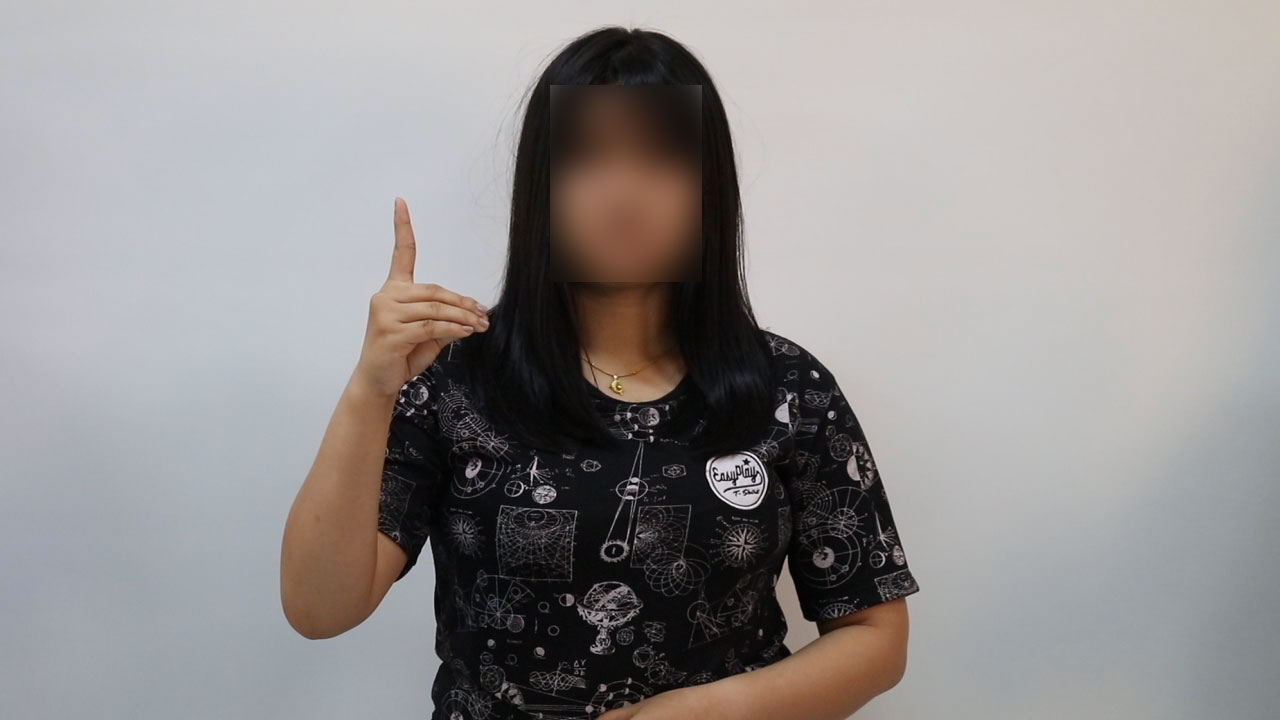dor: (336, 191, 496, 402)
